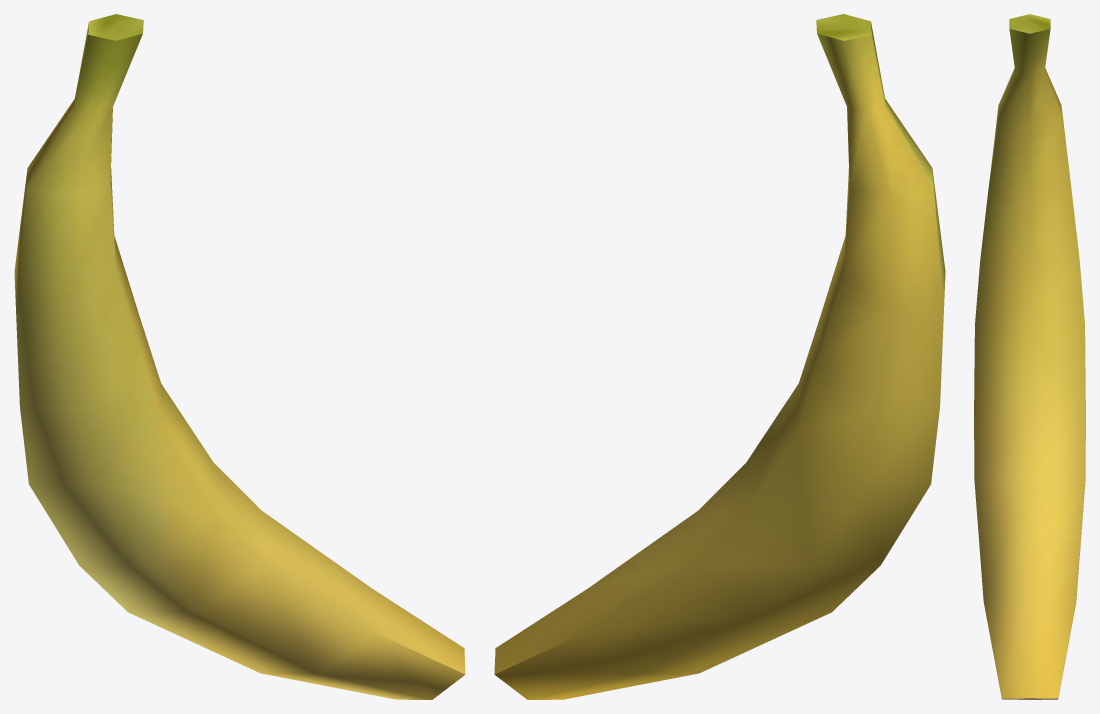
The model's file is banana.fbx.
3 renders of one model, left to right at view 1: azimuth 30°, elevation 25°; view 2: azimuth 150°, elevation 25°; view 3: azimuth 270°, elevation 25°, orthographic. The views are drawn at different scales.
Parts seen in each view (by area): view 1: Cube; view 2: Cube; view 3: Cube.
Part boxes in pixels (x1=…): Cube: x1=14, y1=14, x2=465, y2=699; Cube: x1=494, y1=14, x2=945, y2=699; Cube: x1=974, y1=14, x2=1085, y2=699.
Bounding box in the file's own units: 36.48 × 57.64 × 10.25.
